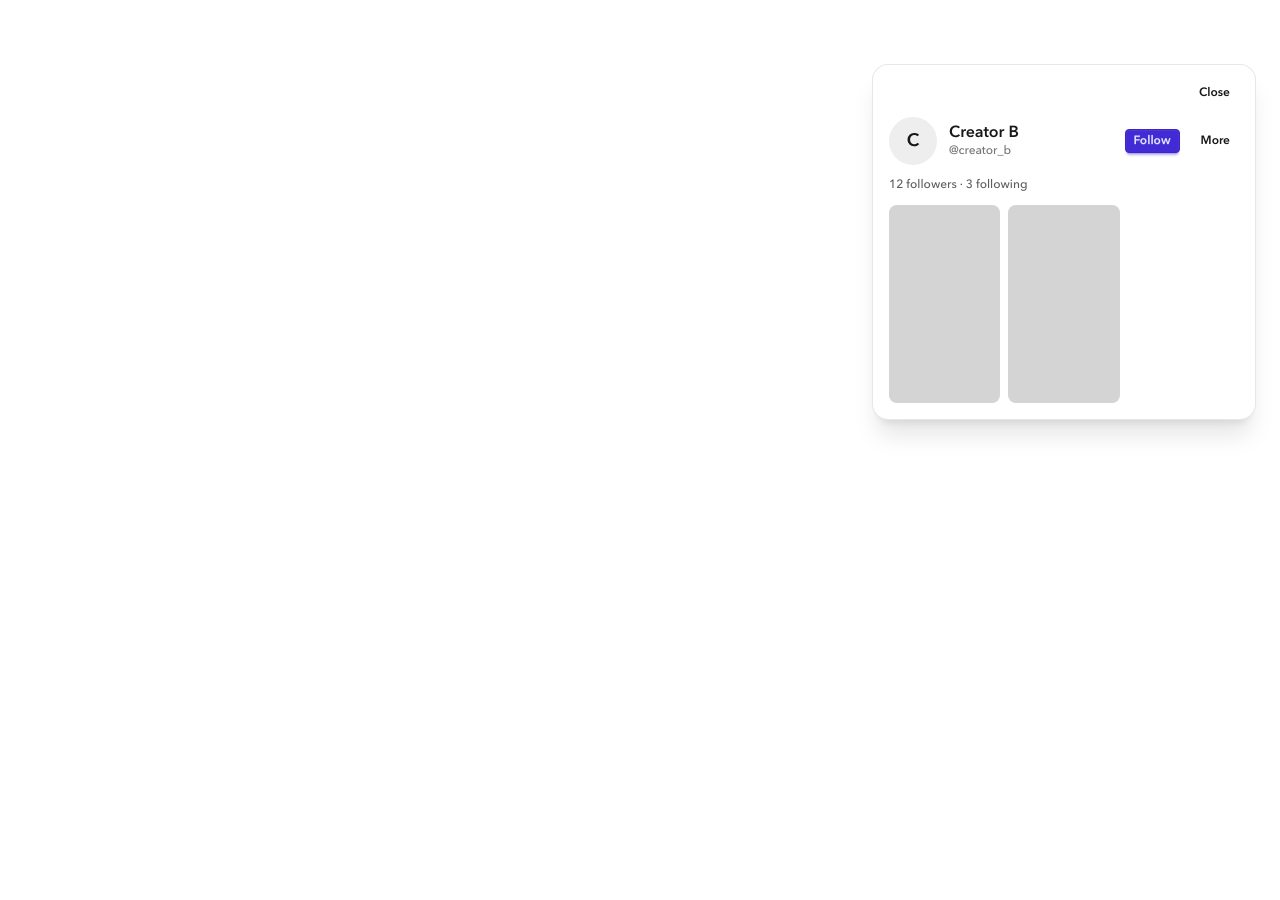
Test case: ProfileSheet › blocks from More after a confirm, then shows the profile as unavailable
Click the button "More": (1215, 141) [1192,129,1239,153]
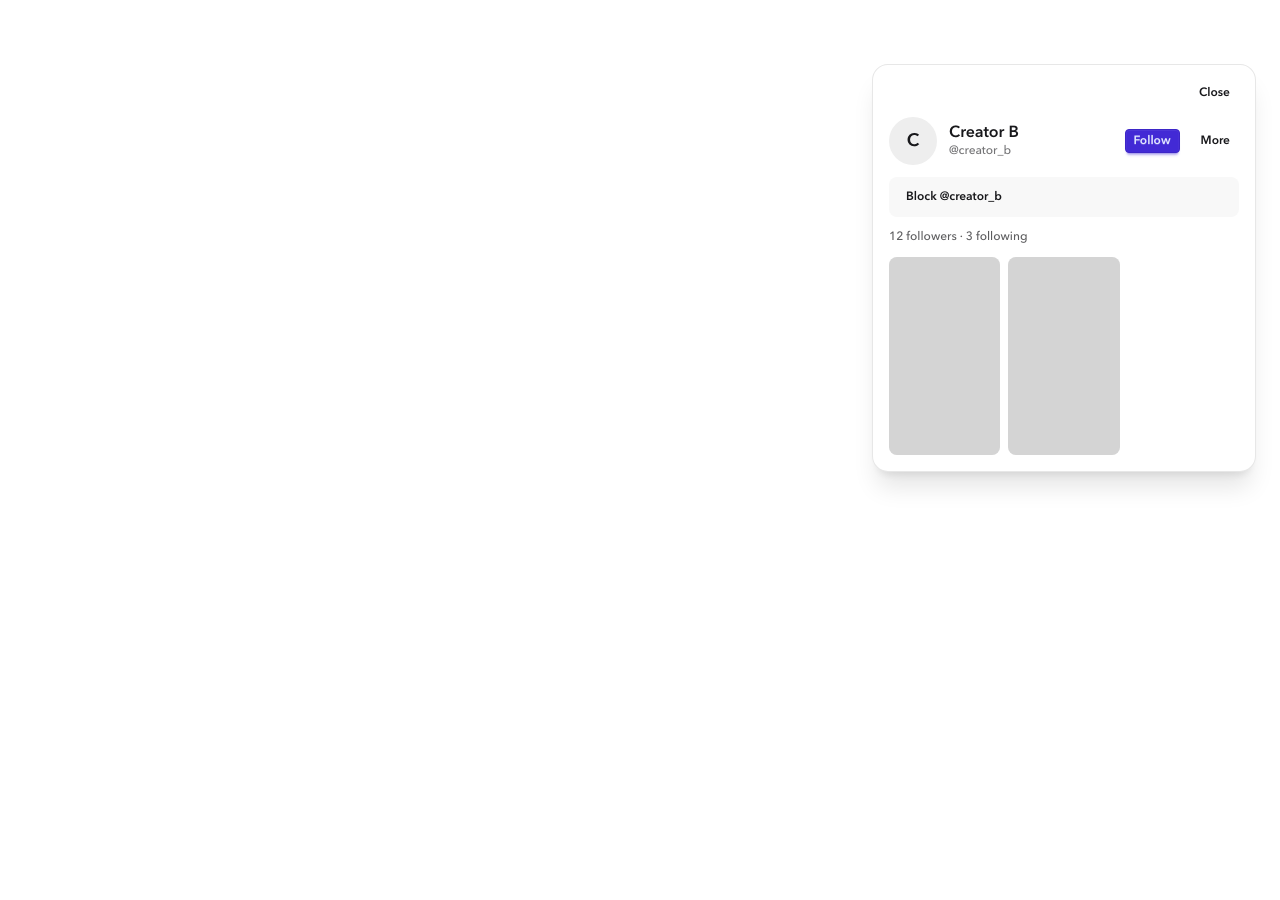
Click the button "Block @creator_b": (954, 197) [897,185,1011,209]
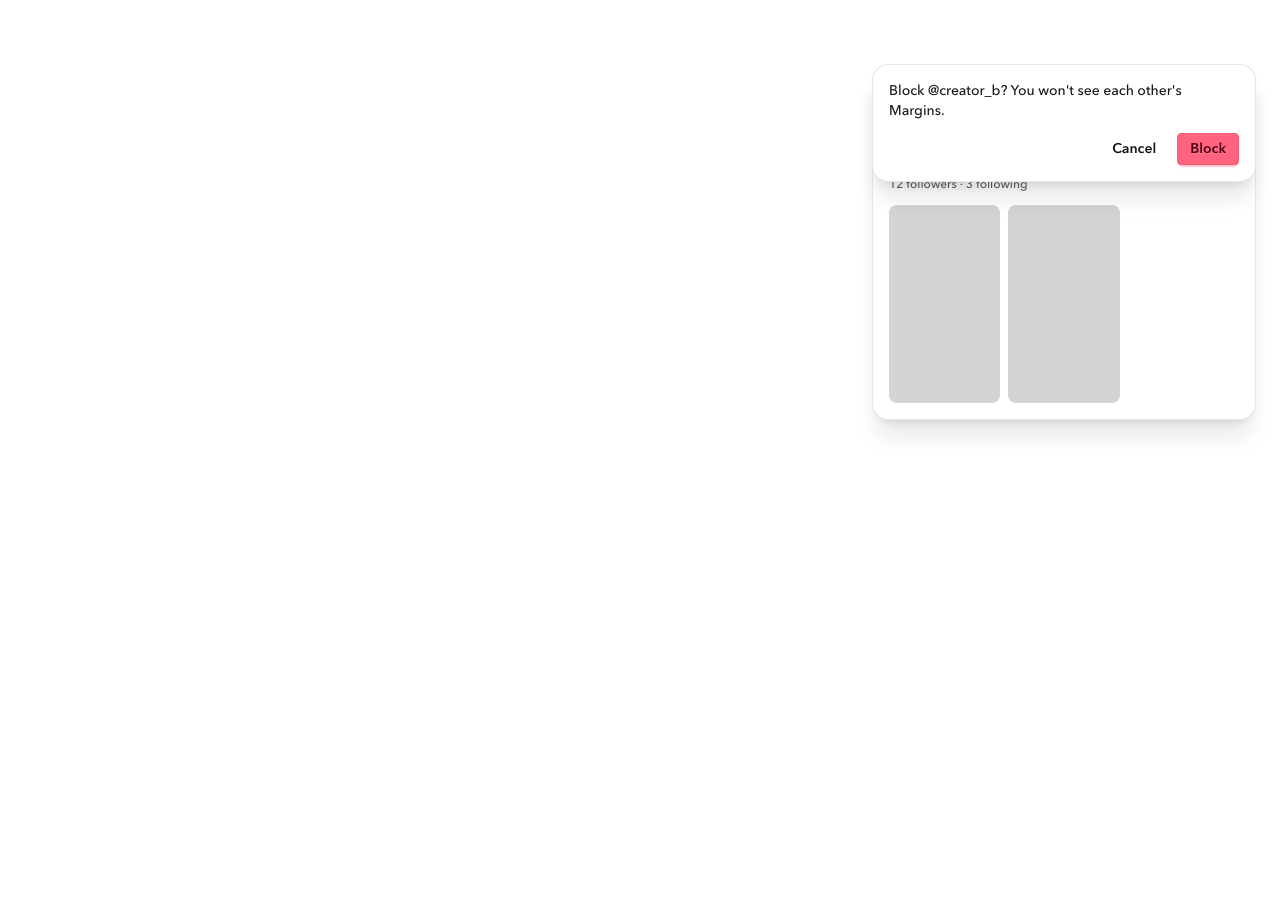
Expected: the text "Block @creator_b? You won't see each other's Margins." is shown, [889,84,1182,118]
Click the button "Block": (1208, 149) [1177,133,1239,165]
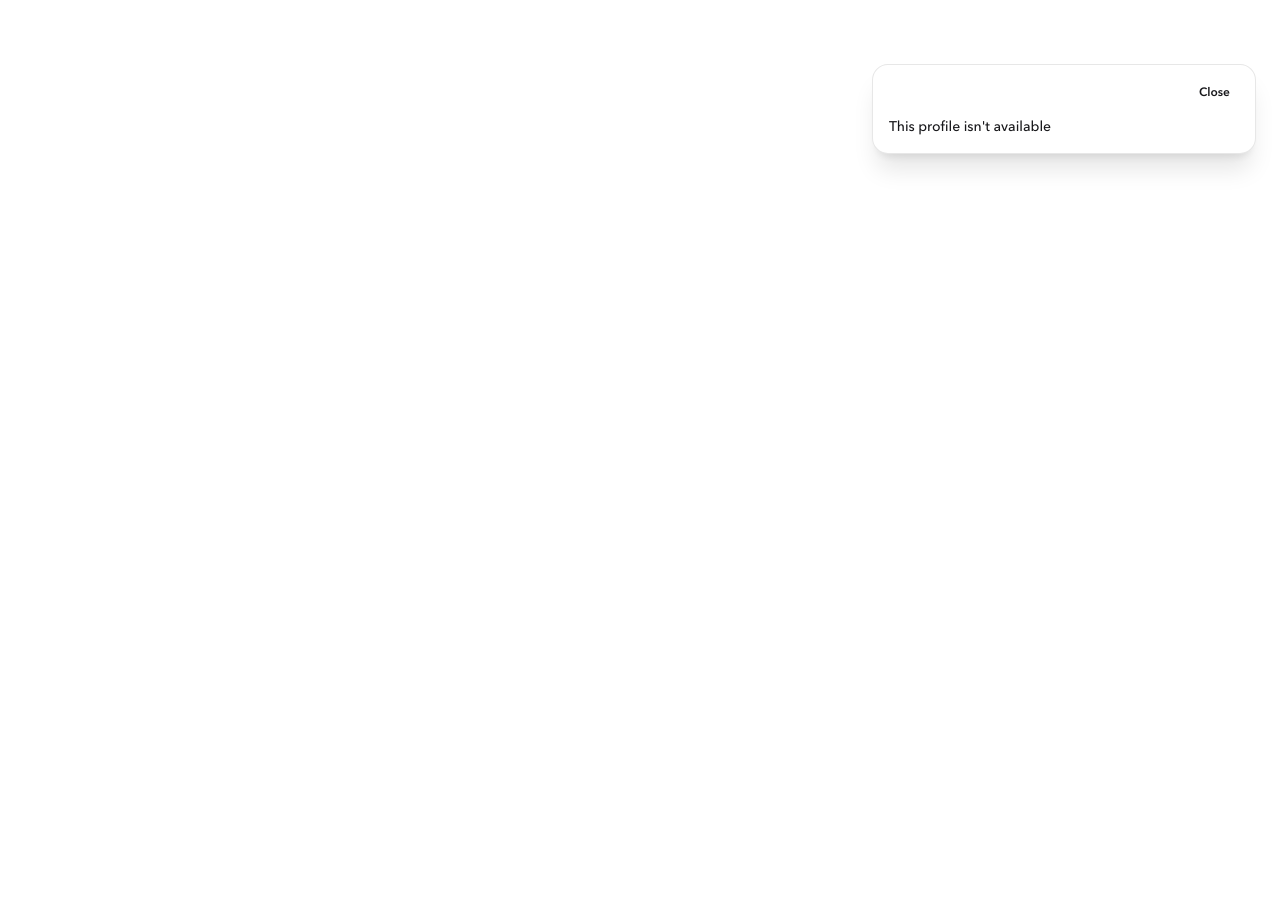
Expected: the text "This profile isn't available" is shown, [889,120,1051,134]
Expected: no pictures are shown
